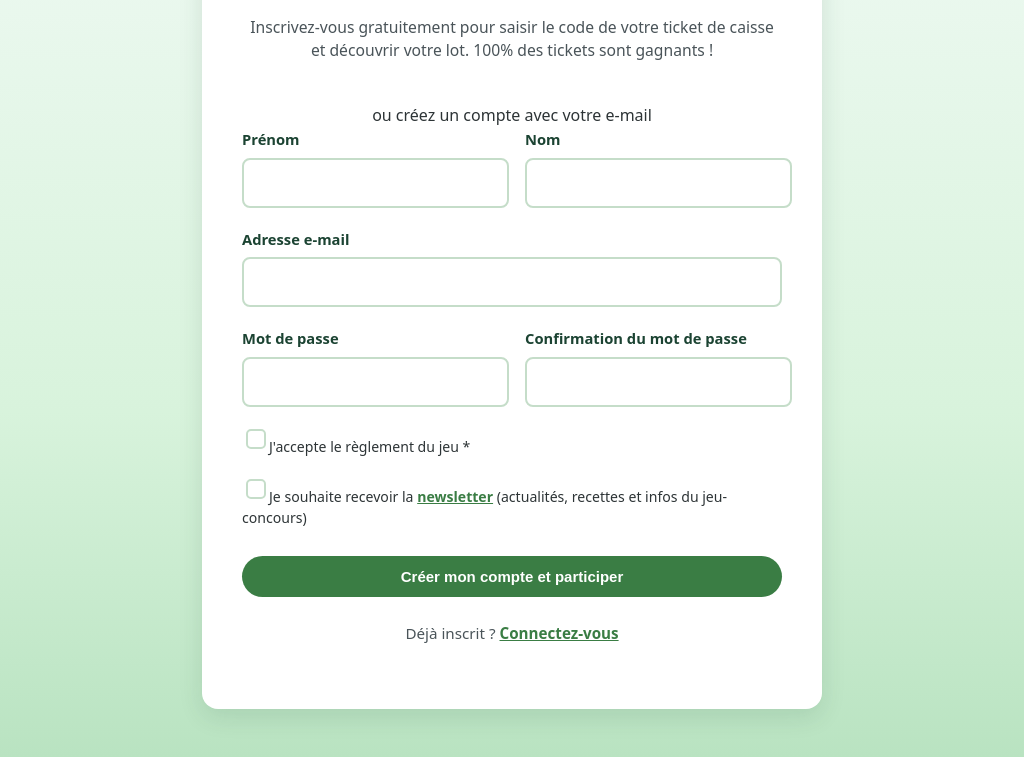
Scenario: Inscription › affiche les erreurs de validation si le formulaire est vide
The image size is (1024, 757).
(page scrolled)
Click the button "Créer mon compte et participer". click: click(512, 577)
box: x1=242 y1=556 x2=782 y2=597
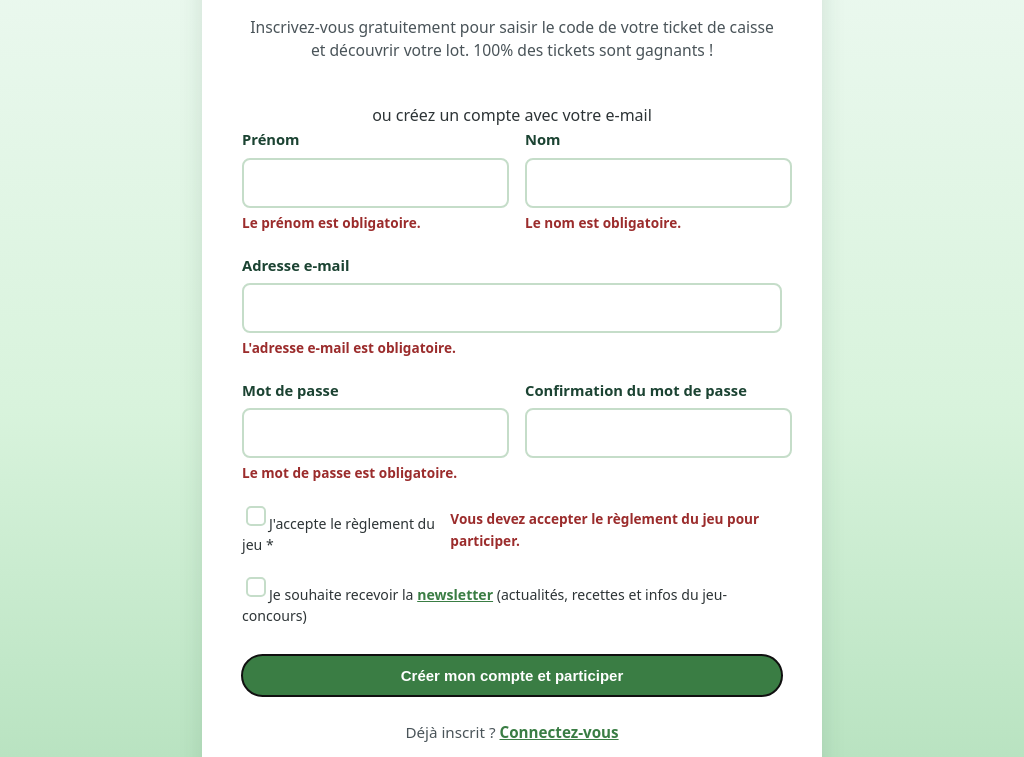
Result: the text "Le prénom est obligatoire." is shown at x1=242 y1=213 x2=421 y2=232
Result: the text "Le nom est obligatoire." is shown at x1=525 y1=213 x2=681 y2=232
Result: the text "L'adresse e-mail est obligatoire." is shown at x1=242 y1=338 x2=456 y2=357
